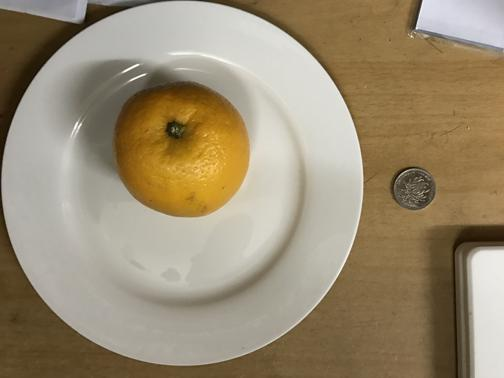coin: (391, 166, 436, 210)
orange: (119, 84, 249, 218)
